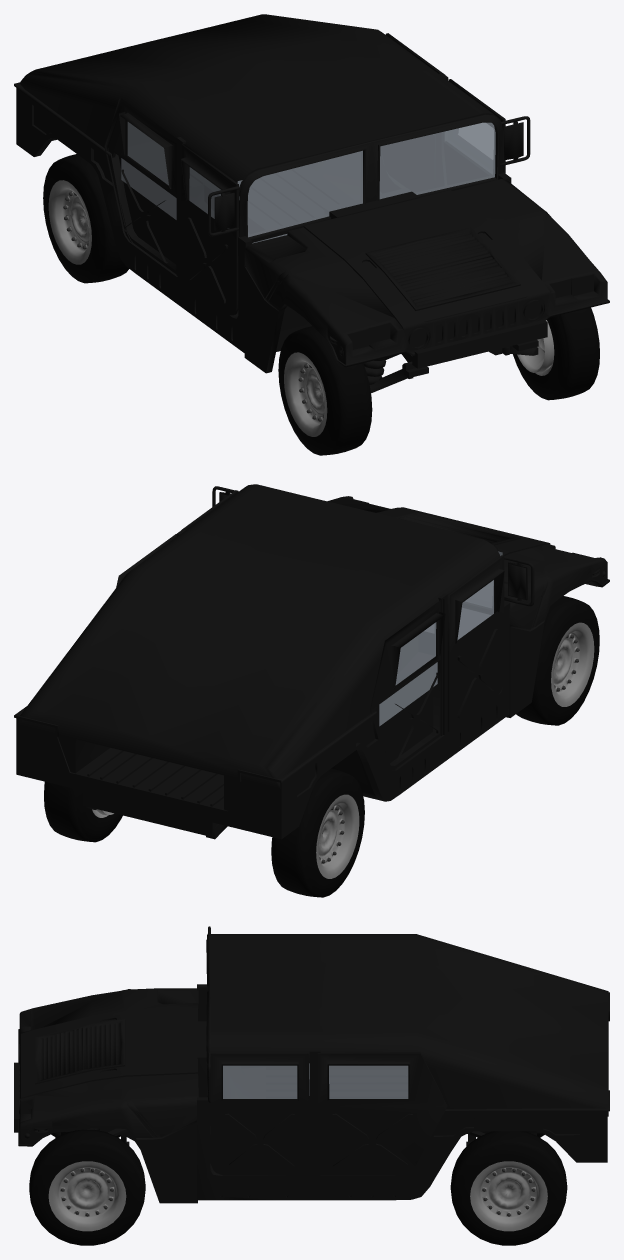
Rendered from Humvee.fbx.
3 views of the same model, one above another, from view 1: azimuth 30°, elevation 25°; view 2: azimuth 150°, elevation 25°; view 3: azimuth 270°, elevation 25° (orthographic). The views are drawn at different scales.
Parts seen in each view (by area): view 1: body, tires, glass_3, rims, glass_2, glass; view 2: body, tires, rims, glass_2, glass_3; view 3: body, tires, rims, glass.
Part boxes in pixels (<box>): body: <box>14,14,609,393</box>; tires: <box>43,154,599,455</box>; glass_3: <box>237,122,495,243</box>; rims: <box>48,180,554,436</box>; glass_2: <box>121,122,228,228</box>; glass: <box>445,123,493,173</box>; body: <box>14,484,609,839</box>; tires: <box>44,596,599,897</box>; rims: <box>92,622,594,878</box>; glass_2: <box>379,580,493,726</box>; glass_3: <box>425,551,502,638</box>; body: <box>14,926,609,1203</box>; tires: <box>29,1129,567,1245</box>; rims: <box>48,1161,547,1231</box>; glass: <box>223,1063,408,1098</box>.
Size of what is drawn, in the model's own units: 184 by 126 by 330.
